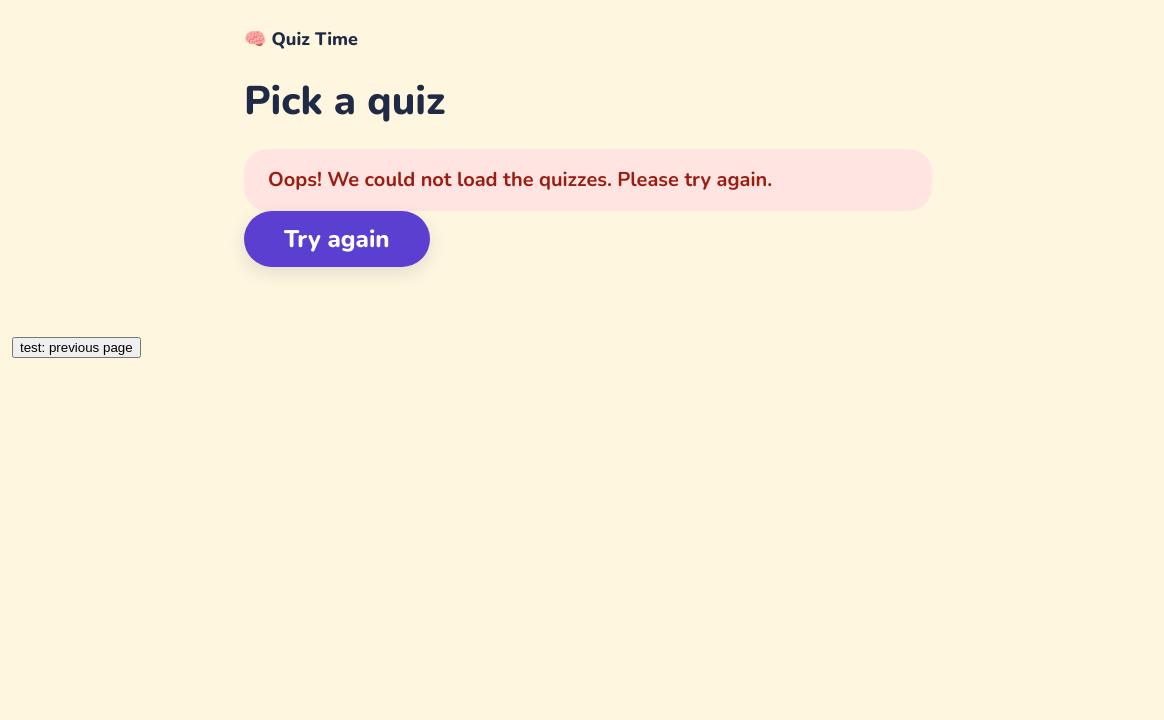
Test case: QuizListPage › shows an error and can try again
This screenshot has width=1164, height=720.
Check: the message shows "We could not load the quizzes", box [268, 166, 772, 193]
Click the button "Try again".
click(337, 239)  # box [244, 211, 430, 267]
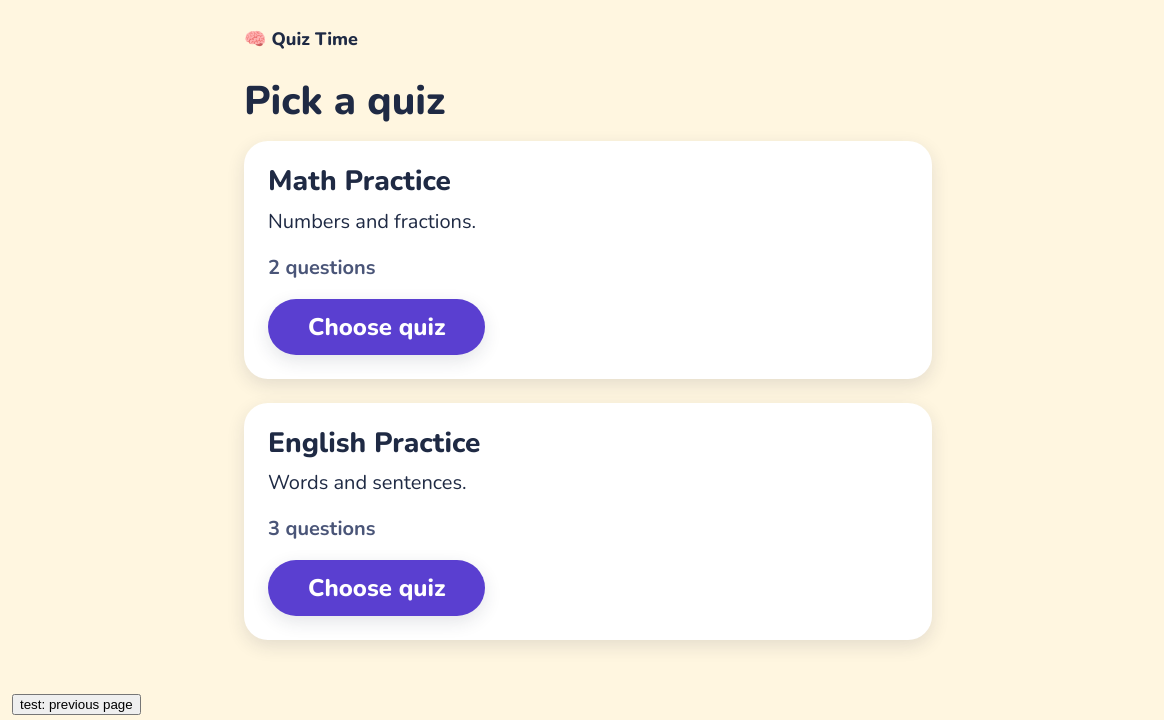
Check: the heading "Math Practice" is shown, box [268, 162, 451, 200]
